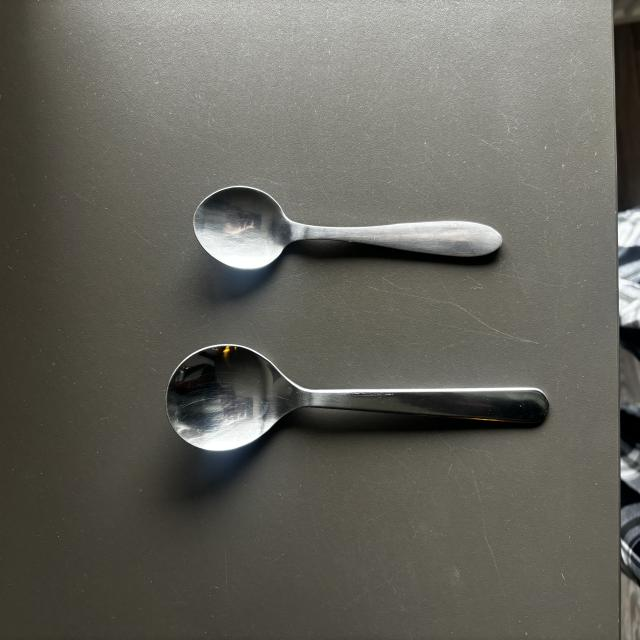spoon: (163, 344, 550, 455), (194, 187, 502, 274)
